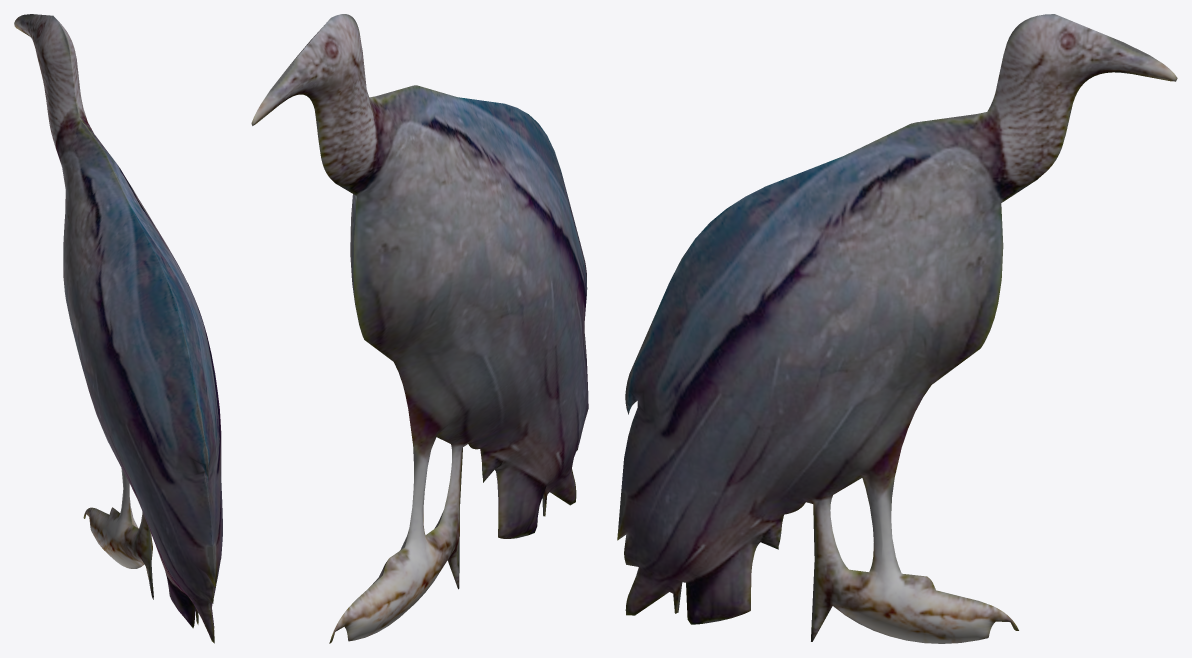
3 renders of one model, left to right at view 1: azimuth 30°, elevation 25°; view 2: azimuth 150°, elevation 25°; view 3: azimuth 270°, elevation 25°, orthographic. The views are drawn at different scales.
Visible parts, largest first — view 1: node1; view 2: node1; view 3: node1.
Part boxes in pixels (box(x1,y1,x2,y2)): node1: box(14, 14, 222, 643); node1: box(251, 14, 588, 643); node1: box(617, 14, 1177, 643).
Bounding box in the file's own units: 0.3255 × 1.48 × 1.2.
Materials: 1 (1 with a texture image).
